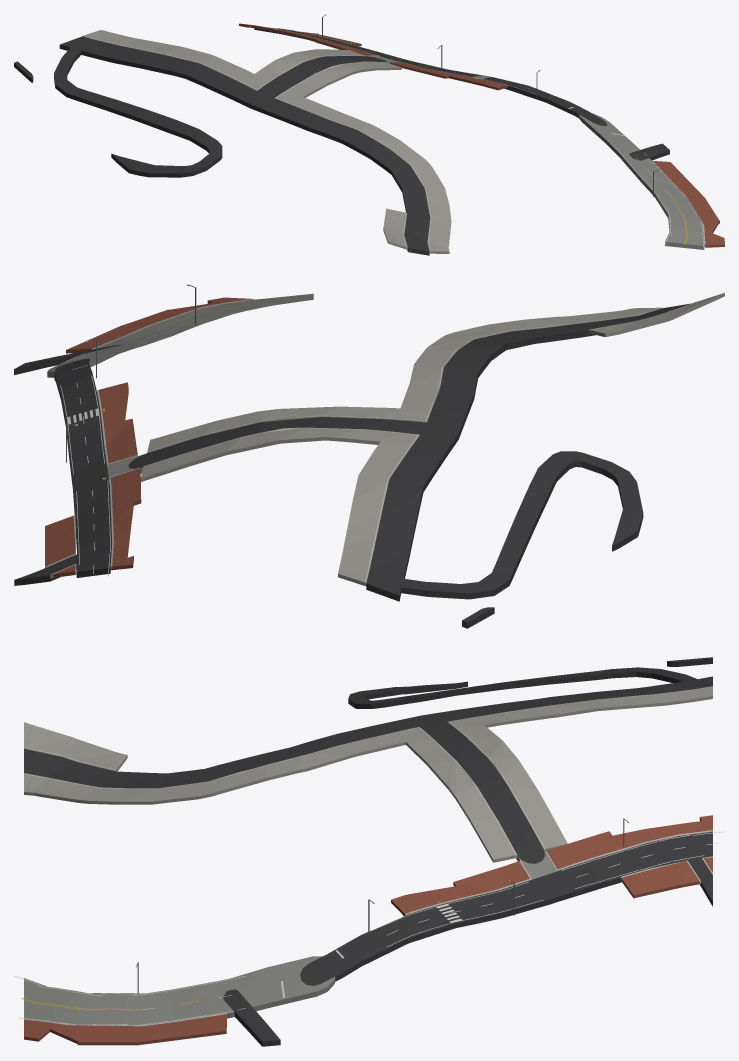
3 renders of one model, top to bottom at view 1: azimuth 30°, elevation 25°; view 2: azimuth 150°, elevation 25°; view 3: azimuth 270°, elevation 25°, orthographic. The views are drawn at different scales.
Bounding box in the file's own units: 147 × 32.65 × 150.
